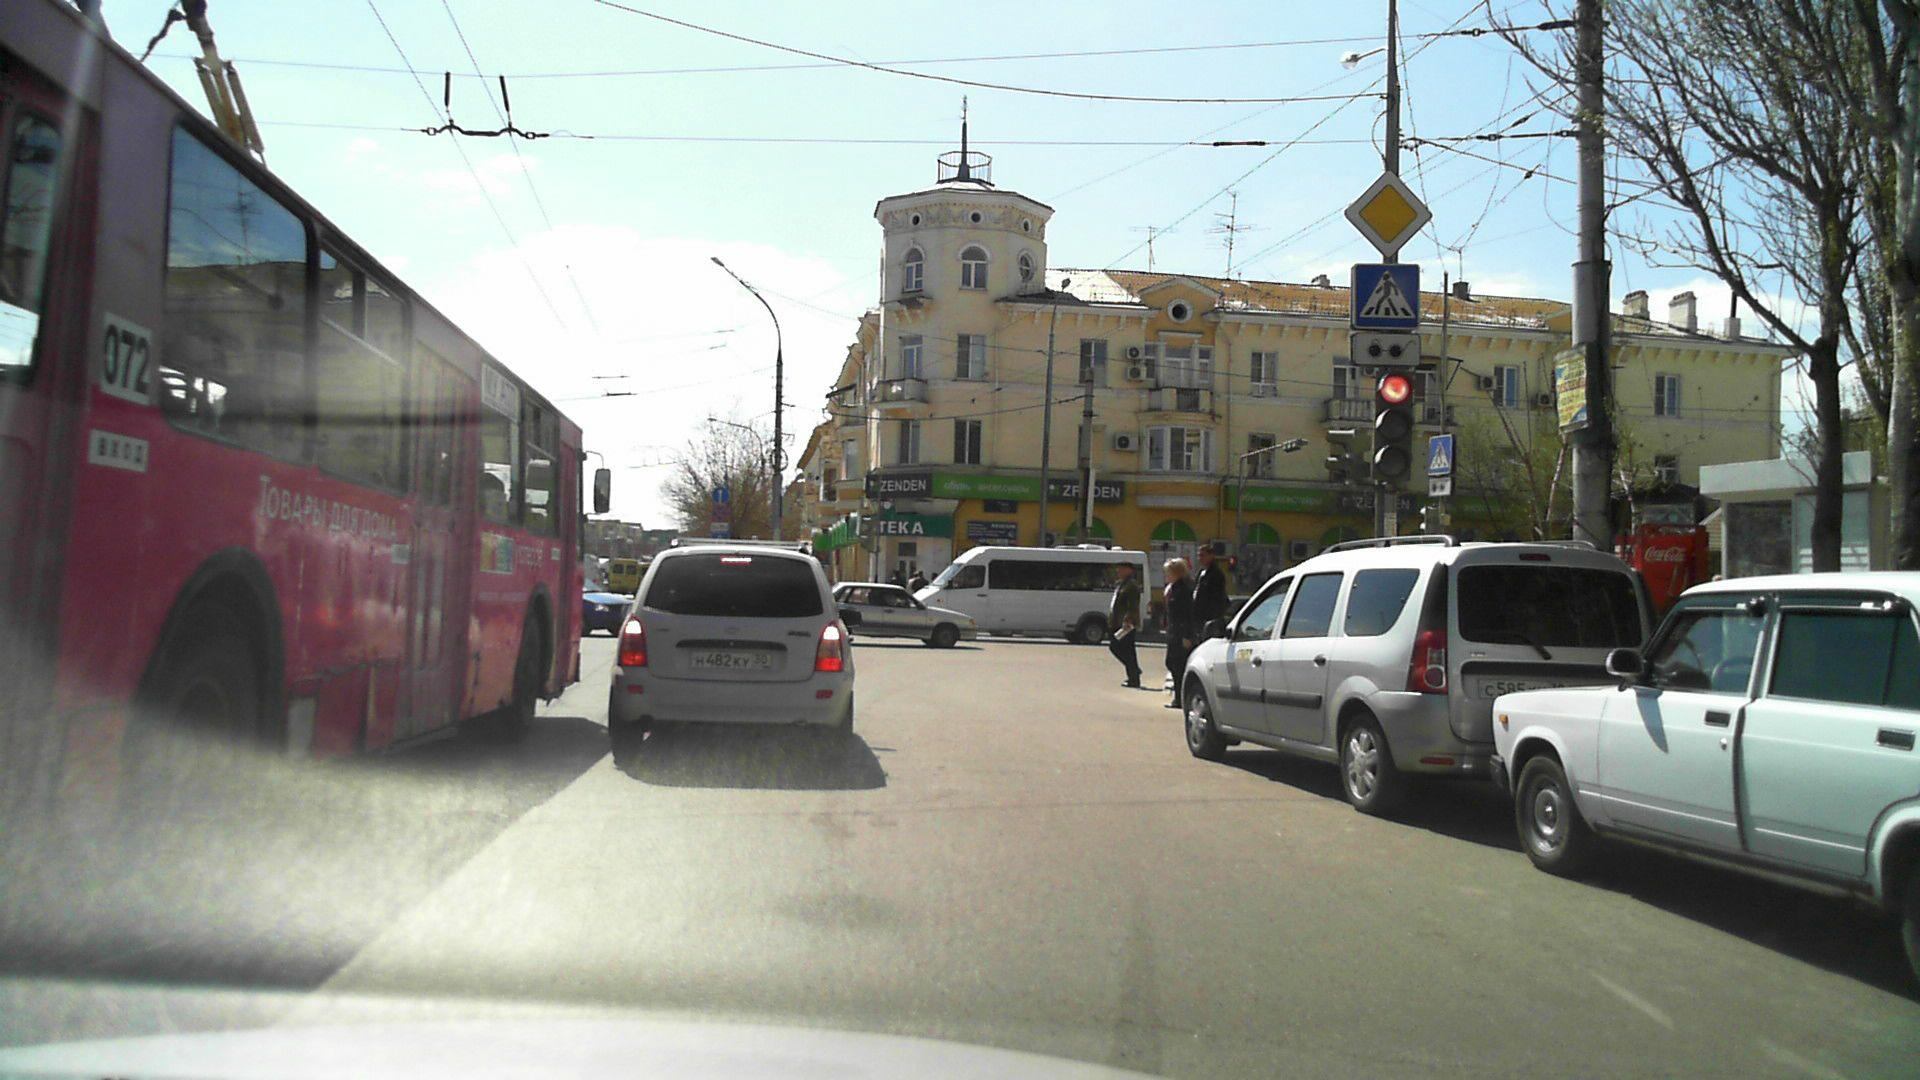2_1: (1342, 170, 1433, 258)
3_27: (711, 505, 729, 522)
4_1_1: (712, 485, 731, 504)
5_19_1: (1353, 264, 1420, 331), (1425, 435, 1455, 473), (711, 534, 731, 545)
8_15: (1350, 331, 1422, 367), (1429, 476, 1453, 497)
8_5_4: (708, 522, 731, 533)
